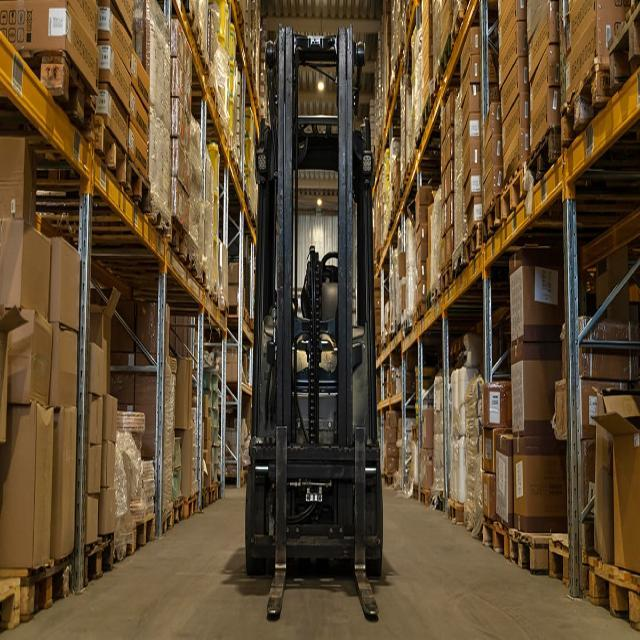forklift: (242, 16, 388, 622)
